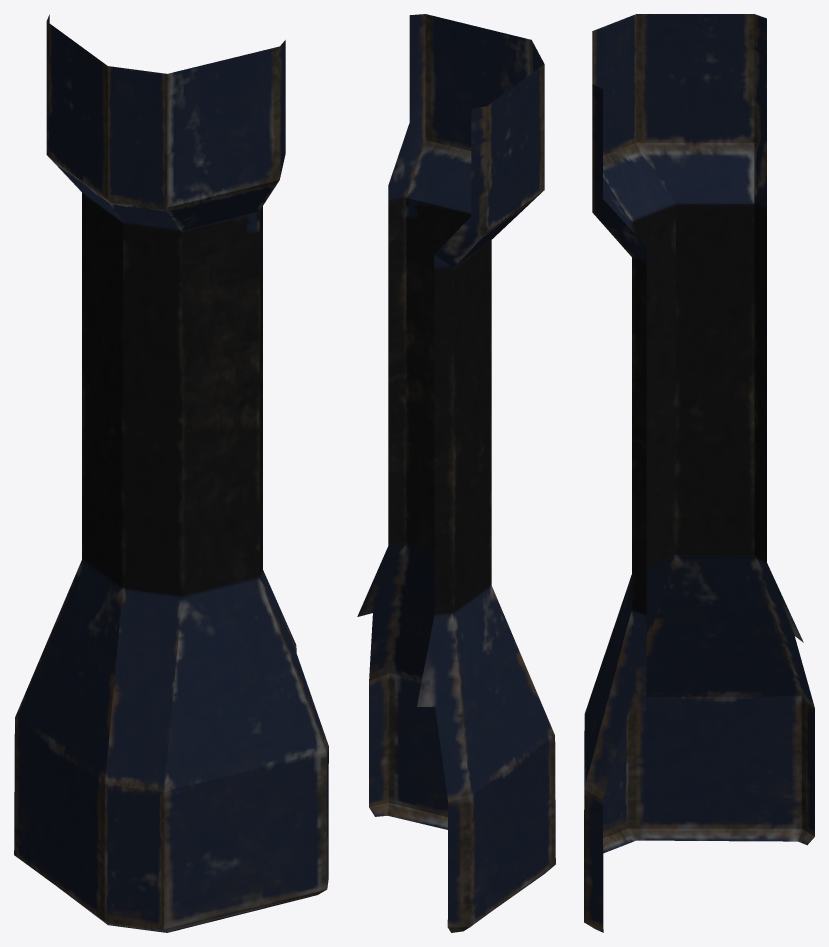
The model's file is mesh_BuildingA_TrimCornerOuterLarge_v2.3.fbx.
The picture shows the model from 3 angles, left to right: view 1: azimuth 30°, elevation 25°; view 2: azimuth 150°, elevation 25°; view 3: azimuth 270°, elevation 25°; orthographic projection. The views are drawn at different scales.
Visible parts, largest first — view 1: mesh_BuildingA_TrimCornerOuterLarge; view 2: mesh_BuildingA_TrimCornerOuterLarge; view 3: mesh_BuildingA_TrimCornerOuterLarge.
Boxes of the visible parts, x1=… form: mesh_BuildingA_TrimCornerOuterLarge: x1=14, y1=14, x2=328, y2=932; mesh_BuildingA_TrimCornerOuterLarge: x1=357, y1=14, x2=555, y2=932; mesh_BuildingA_TrimCornerOuterLarge: x1=584, y1=14, x2=814, y2=932.
Bounding box in the file's own units: 51.51 × 200 × 50.71.
